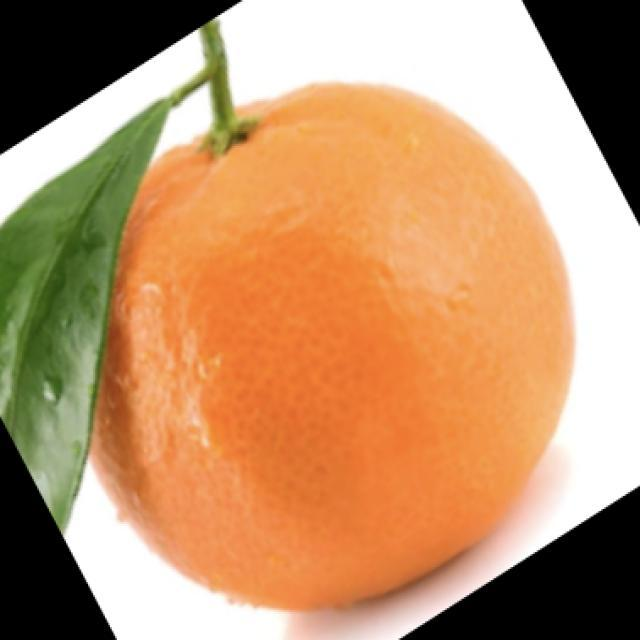matang: (94, 84, 573, 610)
